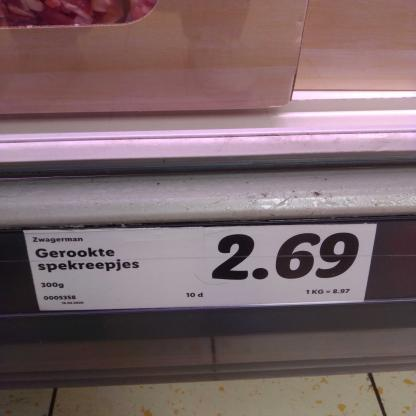prtg: (23, 224, 379, 312)
